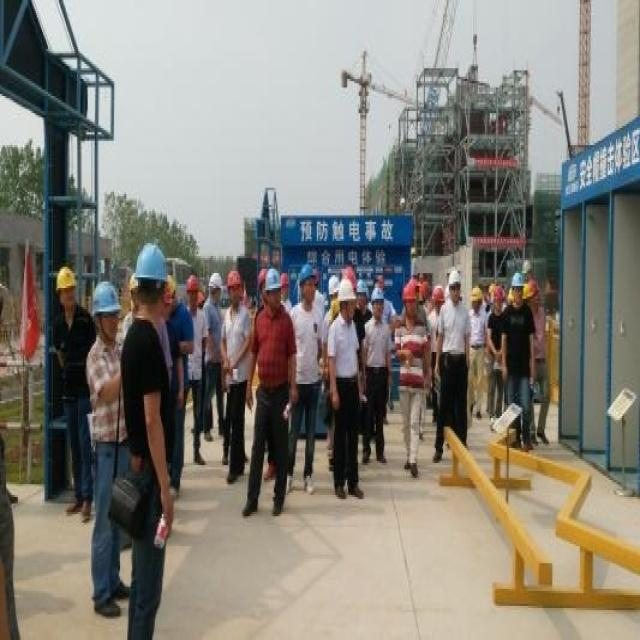helmet: (132, 319, 168, 424), (89, 367, 121, 464), (54, 348, 78, 421), (298, 342, 316, 410), (264, 351, 282, 418), (225, 356, 243, 419), (337, 371, 356, 428), (508, 359, 525, 416), (207, 356, 224, 407), (400, 378, 418, 426), (368, 379, 384, 429), (447, 356, 461, 411), (185, 359, 199, 413), (470, 376, 484, 421), (492, 379, 503, 416)
